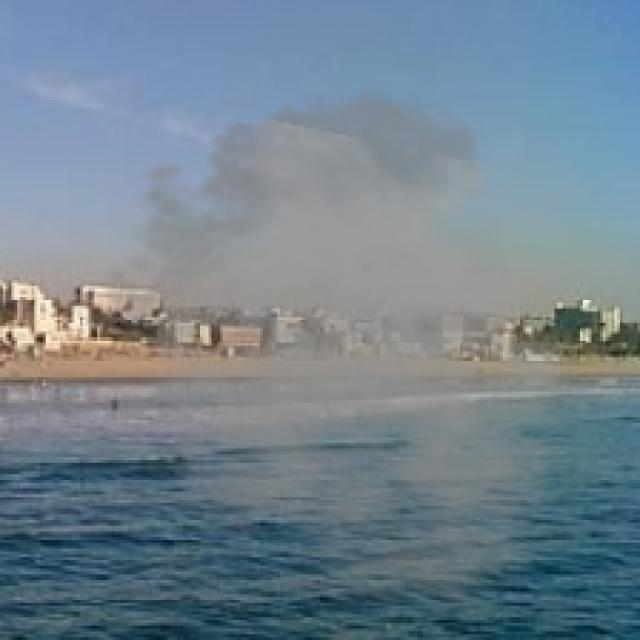Smoke: (83, 80, 620, 617)
